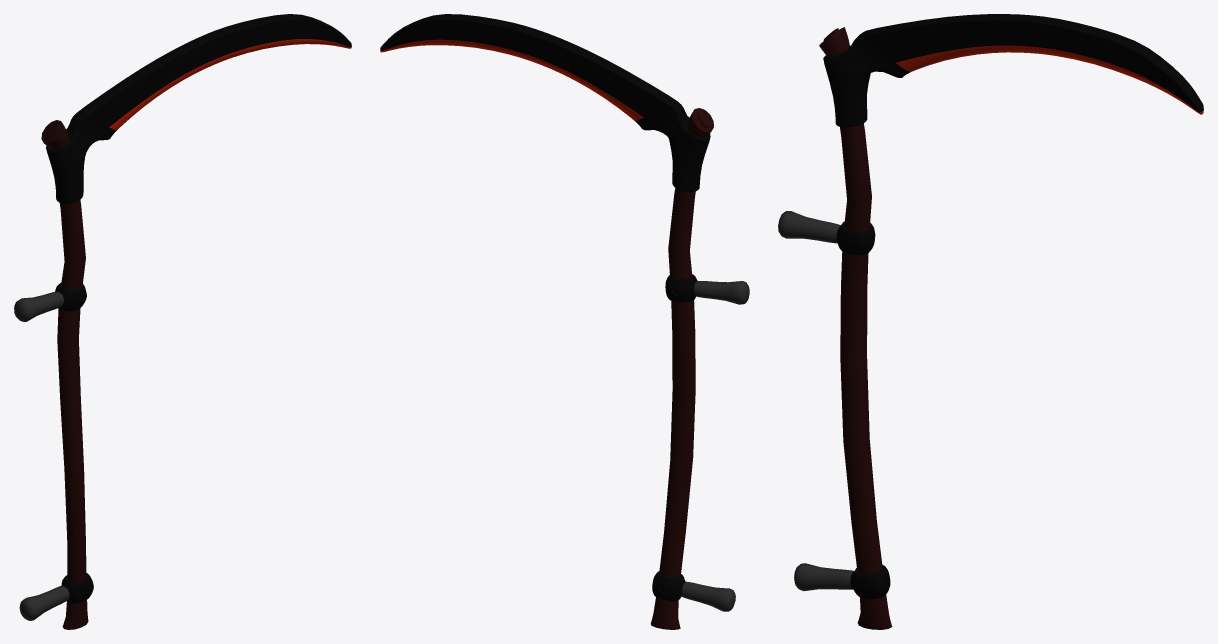
3 renders of one model, left to right at view 1: azimuth 30°, elevation 25°; view 2: azimuth 150°, elevation 25°; view 3: azimuth 330°, elevation 25°, orthographic. The views are drawn at different scales.
Parts seen in each view (by area): view 1: 314.002, 314.001, 314, 314.003; view 2: 314.002, 314.001, 314, 314.003; view 3: 314.002, 314.001, 314, 314.003.
Part boxes in pixels (<box>): 314.002: <box>46,14,351,203</box>; 314.001: <box>41,120,88,629</box>; 314: <box>19,573,93,620</box>; 314.003: <box>14,283,86,321</box>; 314.002: <box>380,14,710,192</box>; 314.001: <box>650,108,713,629</box>; 314: <box>652,571,735,611</box>; 314.003: <box>665,274,749,304</box>; 314.002: <box>823,14,1203,127</box>; 314.001: <box>819,27,892,629</box>; 314: <box>794,563,890,599</box>; 314.003: <box>778,211,875,255</box>.
Size of the model in its own units: 78.22 by 9.25 by 120.
